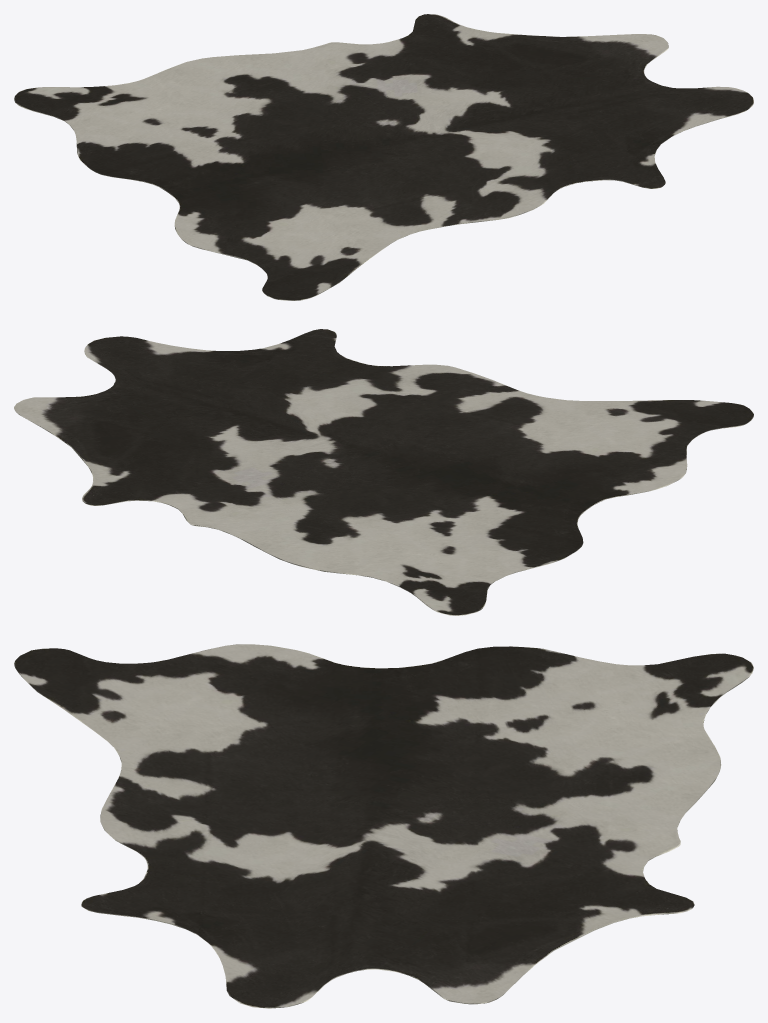
Rendered from maxtaxa_dywan_00618177.glb.
The picture shows the model from 3 angles, top to bottom: view 1: azimuth 30°, elevation 25°; view 2: azimuth 150°, elevation 25°; view 3: azimuth 270°, elevation 25°; orthographic projection. The views are drawn at different scales.
Parts seen in each view (by area): view 1: maxtaxa_dywan_00618177; view 2: maxtaxa_dywan_00618177; view 3: maxtaxa_dywan_00618177.
Part boxes in pixels (box(x1,y1,x2,y2)): maxtaxa_dywan_00618177: box(14, 14, 753, 300); maxtaxa_dywan_00618177: box(14, 329, 753, 615); maxtaxa_dywan_00618177: box(14, 644, 753, 1008).
Size of the model in its own units: 2.09 by 0.00581 by 1.79.
1 material, 1 textured.
